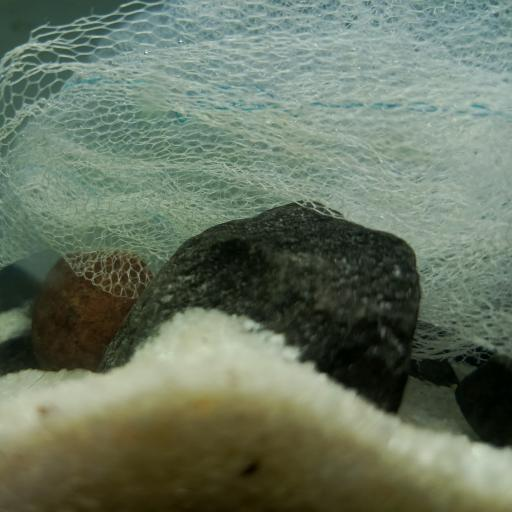net: (1, 2, 512, 368)
